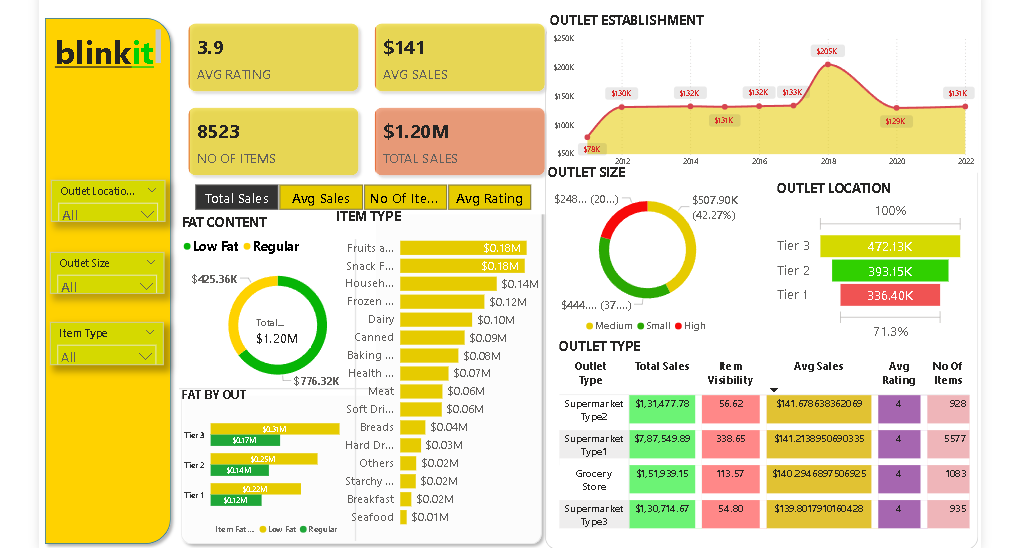

The dashboard page shown, as its layout file describes it:
{"tool":"powerbi","page":{"name":"Page1","canvas":[1400,800],"ordinal":0},"visuals":[{"type":"shape","box":[0,0,204.9,800],"z":0},{"type":"textbox","box":[16.8,20.2,169.7,67.2],"z":1000},{"type":"cardVisual","fields":{"Data":["BlinkIT Grocery Data.Avg Rating","BlinkIT Grocery Data.Avg Sales","BlinkIT Grocery Data.No Of Items","BlinkIT Grocery Data.Total Sales"]},"box":[204.9,0,565.6,260.7],"z":3000},{"type":"shape","box":[201.6,272.1,554.1,527.9],"z":4000},{"type":"donutChart","title":"FAT CONTENT","fields":{"Y":["Blinkit Data.Total Sales"],"Category":["BlinkIT Grocery Data.Item Fat Content"]},"box":[208.2,300,293.4,270.5],"z":5000},{"type":"slicer","fields":{"Values":["Metrics.Metrics"]},"box":[206.6,249.2,549.2,50.8],"z":6000},{"type":"cardVisual","fields":{"Data":["BlinkIT Grocery Data.Total Sales"]},"box":[306.6,436.1,98.4,63.9],"z":7000},{"type":"clusteredBarChart","title":"FAT BY OUT","fields":{"Y":["Blinkit Data.Total Sales"],"Category":["BlinkIT Grocery Data.Outlet Location Type"],"Series":["BlinkIT Grocery Data.Item Fat Content"]},"box":[208.2,557.4,293.4,229.5],"z":8000},{"type":"shape","box":[208.2,550.8,316.4,19.7],"z":9000},{"type":"shape","box":[462.3,337.7,16.4,449.2],"z":10000},{"type":"barChart","title":"ITEM TYPE","fields":{"Y":["Blinkit Data.Total Sales"],"Category":["BlinkIT Grocery Data.Item Type"]},"box":[436.6,292,347.7,486.2],"z":11000},{"type":"shape","box":[752.5,19.7,644.3,780.3],"z":12000},{"type":"lineChart","title":"OUTLET ESTABLISHMENT","fields":{"Y":["BlinkIT Grocery Data.Total Sales"],"Category":["BlinkIT Grocery Data.Outlet Establishment Year"]},"box":[755.7,0,641,239.3],"z":13000},{"type":"donutChart","title":"OUTLET SIZE","fields":{"Y":["BlinkIT Grocery Data.Total Sales"],"Category":["BlinkIT Grocery Data.Outlet Size"]},"box":[752.5,226.2,304.9,260.7],"z":14000},{"type":"funnel","title":"OUTLET LOCATION","fields":{"Y":["Sum(BlinkIT Grocery Data.Sales)"],"Category":["BlinkIT Grocery Data.Outlet Location Type"]},"box":[1093.4,249.2,286.9,244.3],"z":15000},{"type":"pivotTable","title":"OUTLET TYPE","fields":{"Rows":["BlinkIT Grocery Data.Outlet Type"],"Values":["BlinkIT Grocery Data.Total Sales","Sum(BlinkIT Grocery Data.Item Visibility)","BlinkIT Grocery Data.Avg Sales","BlinkIT Grocery Data.Avg Rating","BlinkIT Grocery Data.No Of Items"]},"box":[768.9,485.2,627.9,293.4],"z":16000},{"type":"slicer","fields":{"Values":["BlinkIT Grocery Data.Outlet Location Type"]},"box":[18,249.2,170.5,62.3],"z":17000},{"type":"slicer","fields":{"Values":["BlinkIT Grocery Data.Outlet Size"]},"box":[16.4,357.4,170.5,62.3],"z":18000},{"type":"slicer","fields":{"Values":["BlinkIT Grocery Data.Item Type"]},"box":[16.4,460.7,168.9,63.9],"z":19000}]}

Visuals, with their boxes on the page's 1400x800 design canvas (x1, y1, x2, y2). These are canvas units, not pixel positions in the 1021x548 screenshot, which may show the page scaled, cropped or inside an application window:
shape: bbox=(0, 0, 205, 800)
textbox: bbox=(17, 20, 186, 87)
cardVisual - BlinkIT Grocery Data.Avg Rating x BlinkIT Grocery Data.Avg Sales: bbox=(205, 0, 770, 261)
shape: bbox=(202, 272, 756, 800)
"FAT CONTENT" donutChart: bbox=(208, 300, 502, 570)
slicer - Metrics.Metrics: bbox=(207, 249, 756, 300)
cardVisual - BlinkIT Grocery Data.Total Sales: bbox=(307, 436, 405, 500)
"FAT BY OUT" clusteredBarChart: bbox=(208, 557, 502, 787)
shape: bbox=(208, 551, 525, 570)
shape: bbox=(462, 338, 479, 787)
"ITEM TYPE" barChart: bbox=(437, 292, 784, 778)
shape: bbox=(752, 20, 1397, 800)
"OUTLET ESTABLISHMENT" lineChart: bbox=(756, 0, 1397, 239)
"OUTLET SIZE" donutChart: bbox=(752, 226, 1057, 487)
"OUTLET LOCATION" funnel: bbox=(1093, 249, 1380, 494)
"OUTLET TYPE" pivotTable: bbox=(769, 485, 1397, 779)
slicer - BlinkIT Grocery Data.Outlet Location Type: bbox=(18, 249, 188, 312)
slicer - BlinkIT Grocery Data.Outlet Size: bbox=(16, 357, 187, 420)
slicer - BlinkIT Grocery Data.Item Type: bbox=(16, 461, 185, 525)
